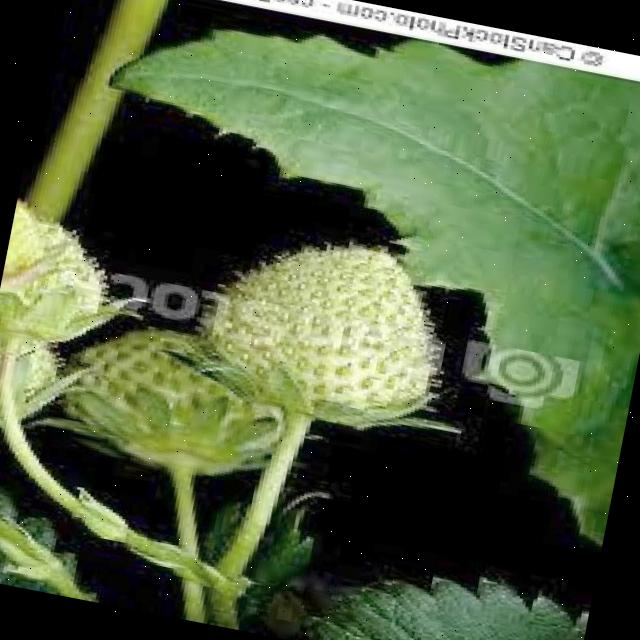strawberry: (200, 220, 453, 435), (58, 314, 296, 482), (0, 201, 118, 336)
